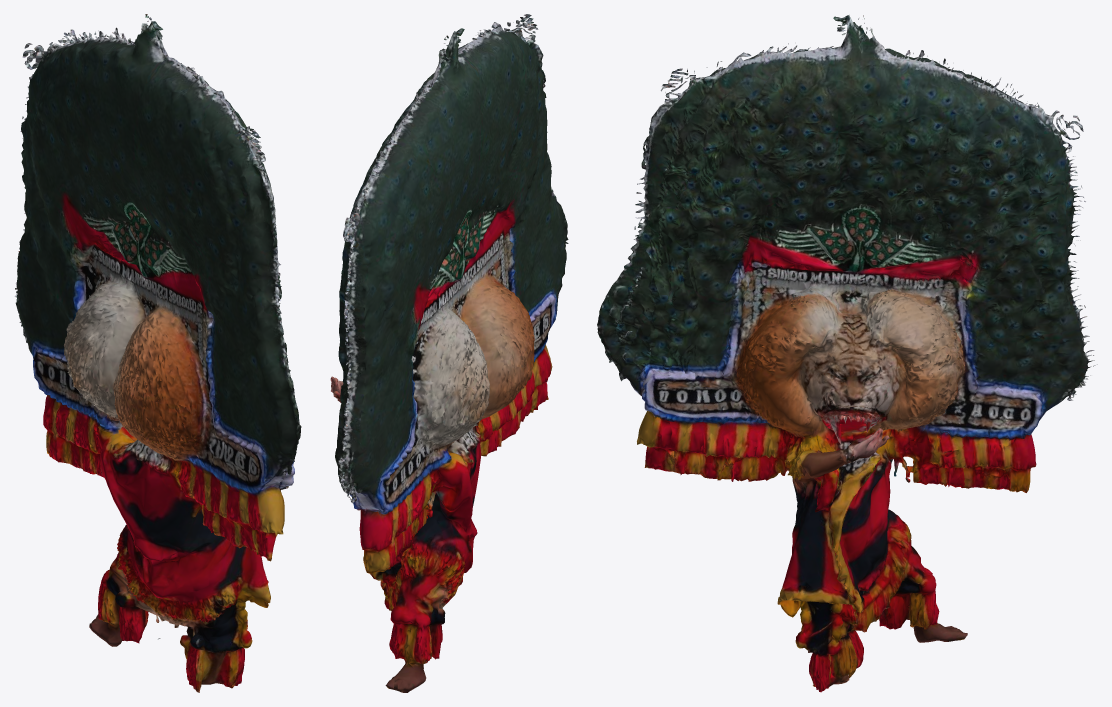
File: reog.glb
3 views of the same model, side by side, from view 1: azimuth 30°, elevation 25°; view 2: azimuth 150°, elevation 25°; view 3: azimuth 270°, elevation 25° (orthographic). The views are drawn at different scales.
Parts seen in each view (by area): view 1: tripo_node_9c977e64-41c4-4cf6-9b71-39a522a8a82d; view 2: tripo_node_9c977e64-41c4-4cf6-9b71-39a522a8a82d; view 3: tripo_node_9c977e64-41c4-4cf6-9b71-39a522a8a82d.
Boxes of the visible parts, x1,y1,x2,y2 form: tripo_node_9c977e64-41c4-4cf6-9b71-39a522a8a82d: (14, 14, 301, 692); tripo_node_9c977e64-41c4-4cf6-9b71-39a522a8a82d: (330, 14, 568, 692); tripo_node_9c977e64-41c4-4cf6-9b71-39a522a8a82d: (597, 15, 1097, 692).
Size of the model in its own units: 0.2809 by 1 by 0.7035.
1 material, 1 textured.
